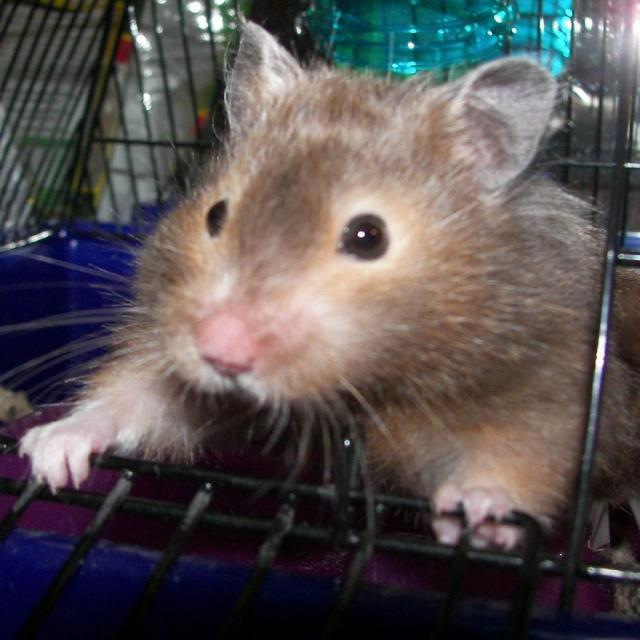rat: (13, 11, 634, 561)
